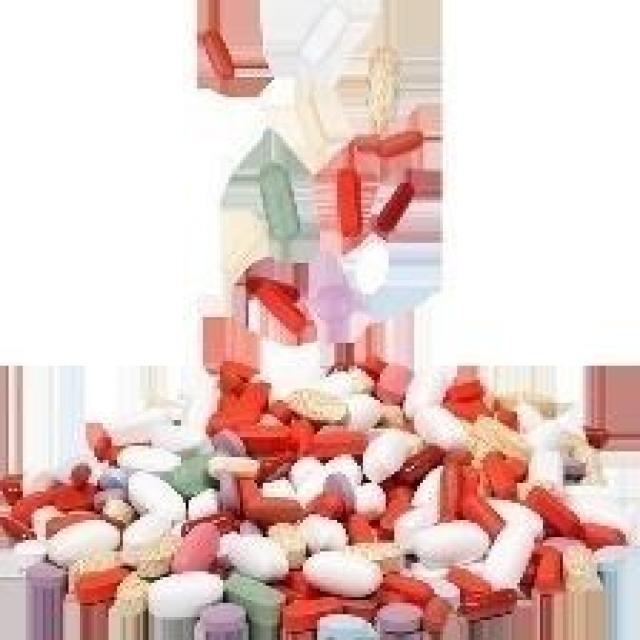Medicine: (0, 245, 640, 640)
